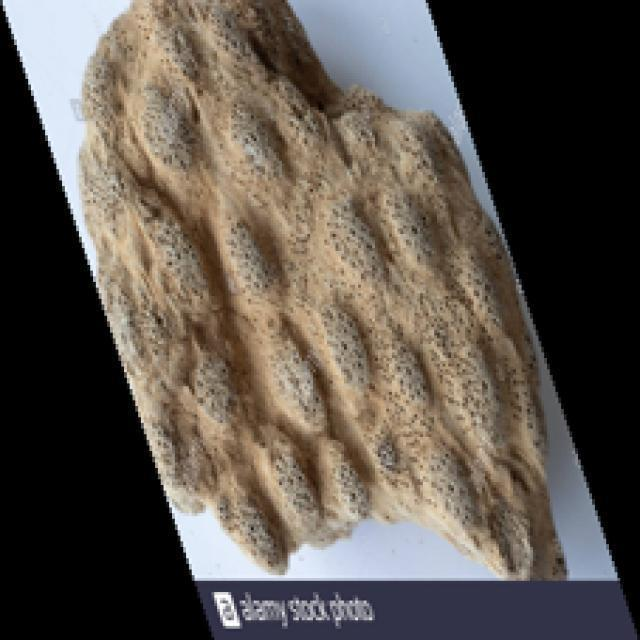Dead Coral: (137, 282, 558, 561), (102, 22, 392, 266)
